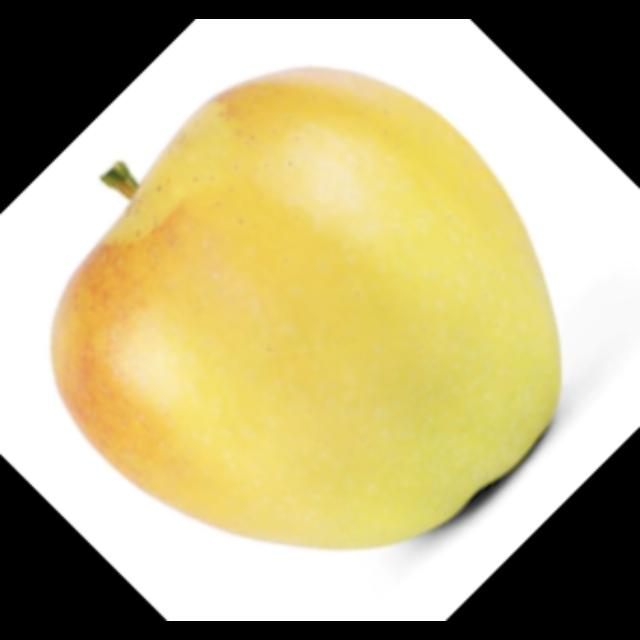Apel Segar: (38, 55, 574, 565)
